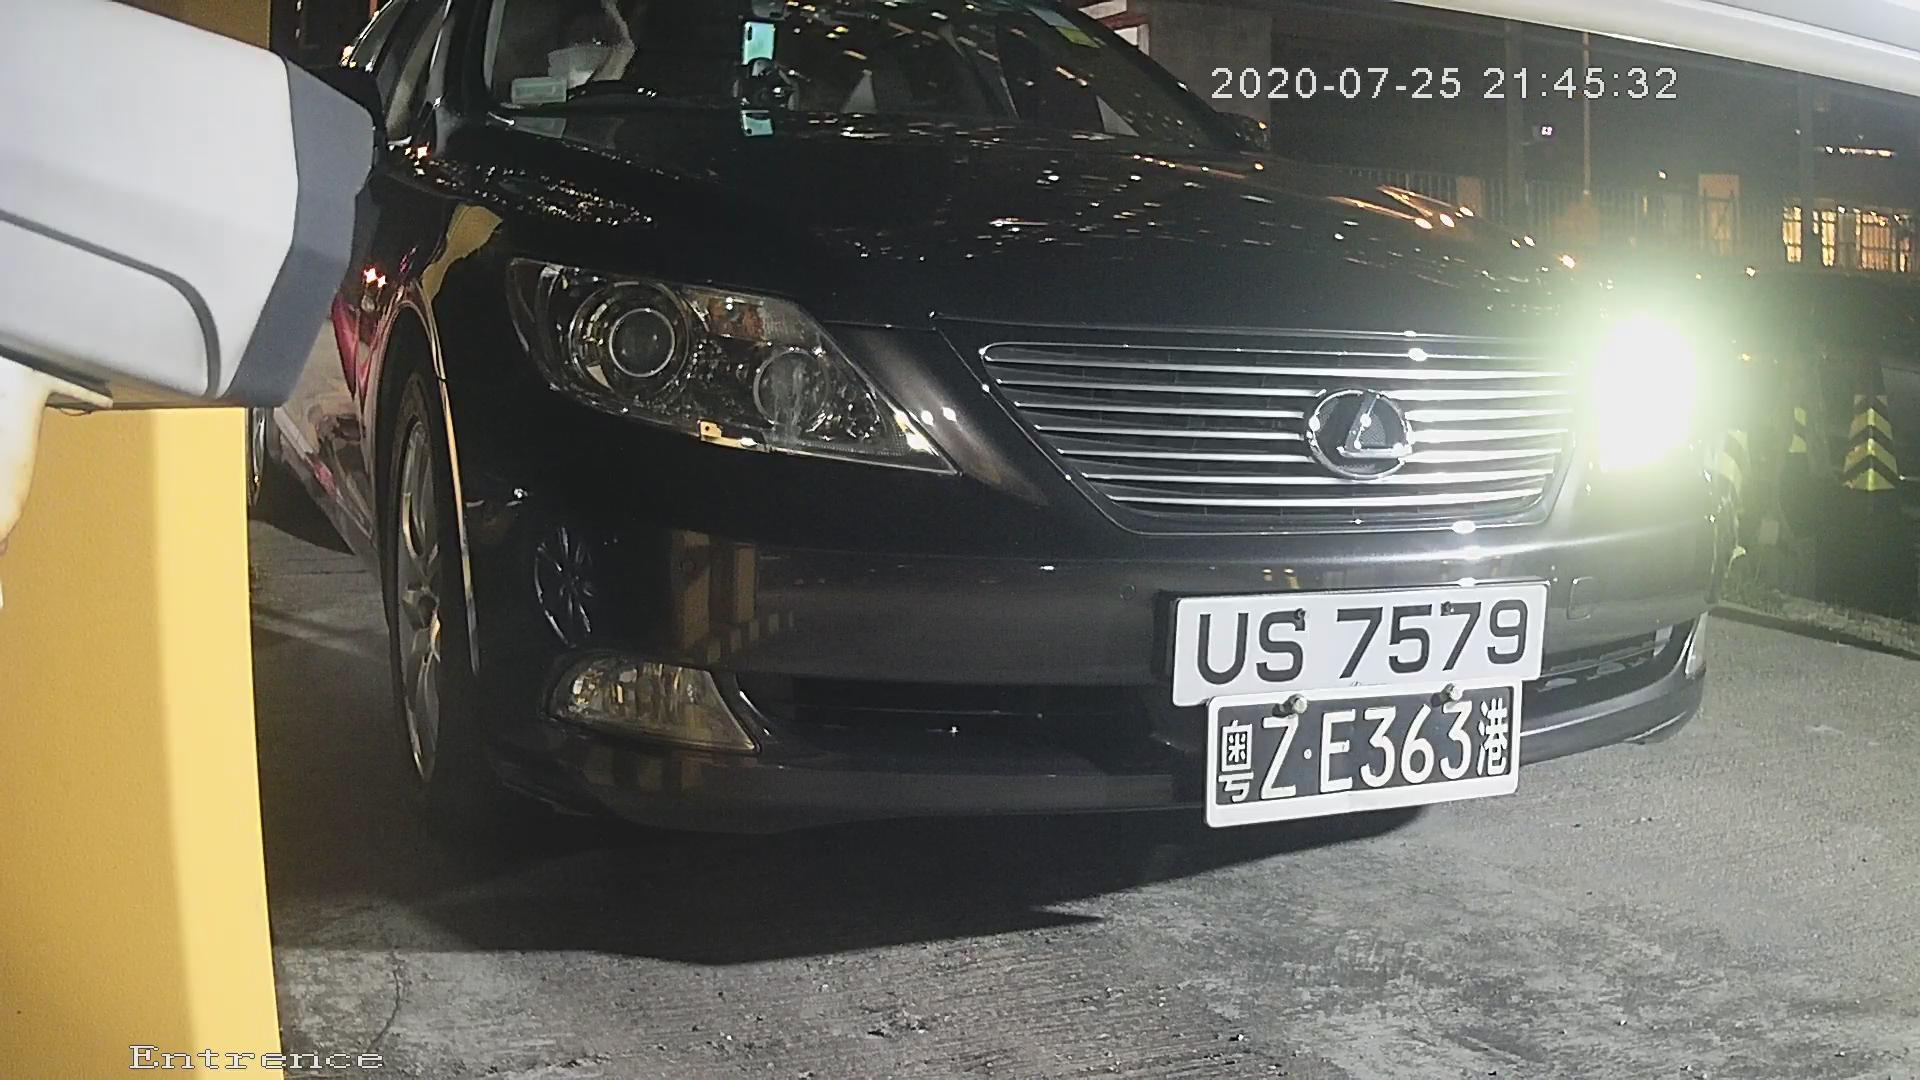privatecar: (215, 1, 1801, 955)
